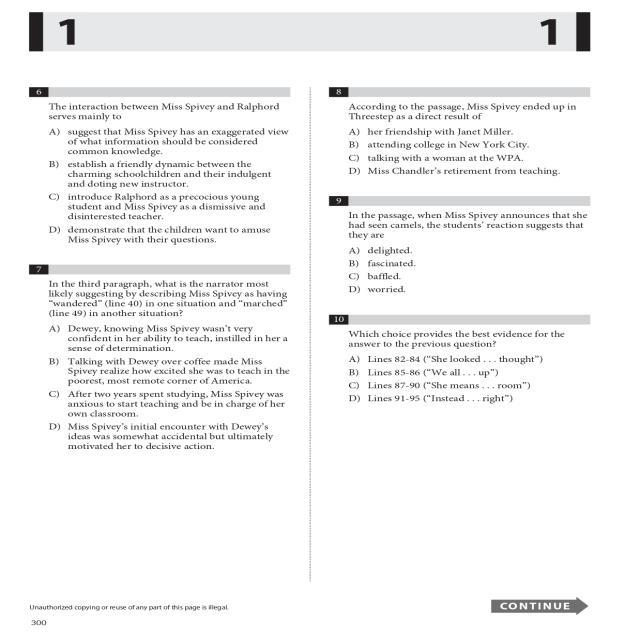Answer_Block: (25, 323, 303, 581), (322, 352, 602, 582), (25, 125, 303, 255), (322, 245, 602, 302), (322, 124, 602, 178)
Question_Answer_Block: (25, 262, 303, 582), (322, 312, 602, 581), (25, 80, 303, 256), (322, 192, 602, 302), (322, 82, 602, 178)
Question_Block: (25, 262, 303, 324), (322, 192, 602, 246), (25, 80, 303, 124), (322, 312, 602, 353), (322, 82, 602, 120)
Question_Paper_Area: (322, 81, 602, 582), (25, 80, 303, 582)
